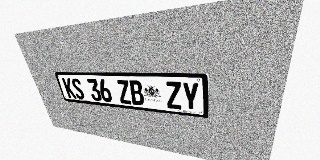3: (86, 79, 102, 101)
6: (97, 79, 113, 102)
B: (128, 80, 145, 106)
K: (62, 78, 77, 99)
S: (70, 78, 85, 100)
Y: (181, 82, 199, 111)
Z: (165, 81, 182, 110), (116, 80, 132, 104)
